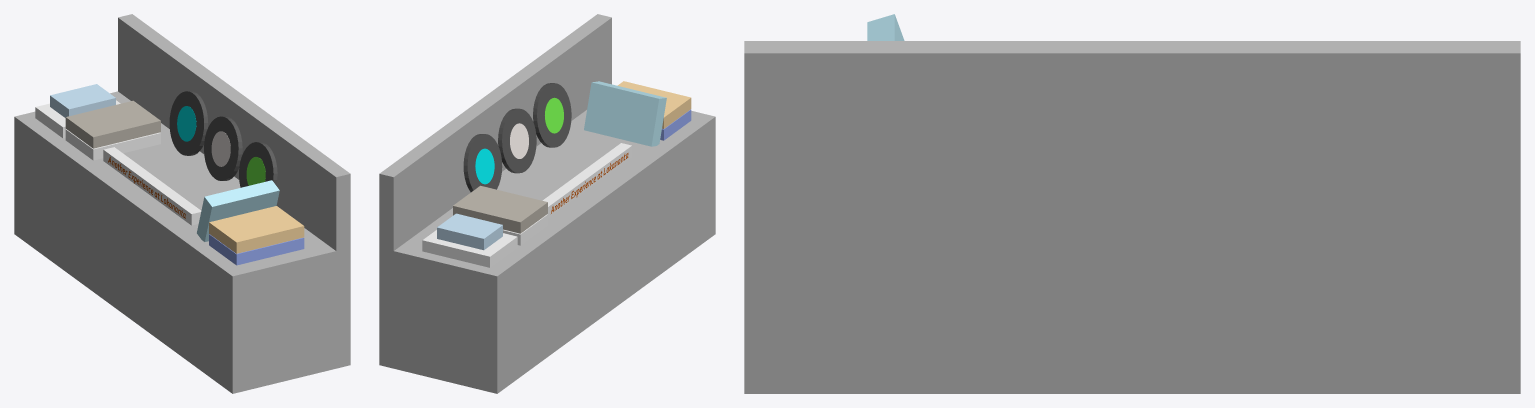
The model's file is meja AEL.fbx.
3 views of the same model, side by side, from view 1: azimuth 30°, elevation 25°; view 2: azimuth 150°, elevation 25°; view 3: azimuth 270°, elevation 25° (orthographic). The views are drawn at different scales.
Visible parts, largest first — view 1: Cube.061, Cube.006, Cube.003, Cube.007, Cube.037, Cylinder.040, Cylinder.002, Cube.005, Cube.004, Cube.002, Cylinder.003, Cube.001 (+4 smaller); view 2: Cube.061, Cube.007, Cube.006, Cube.037, Cube.001, Cube.005, Cylinder.003, Cylinder.040, Cylinder.002, Cube.003, Cylinder.001, Cylinder.041 (+4 smaller); view 3: Cube.061, Cube.007.
Part boxes in pixels (x1=…): Cube.061: x1=14, y1=14, x2=350, y2=393; Cube.006: x1=65, y1=100, x2=160, y2=148; Cube.003: x1=209, y1=206, x2=304, y2=253; Cube.007: x1=197, y1=180, x2=279, y2=241; Cube.037: x1=103, y1=147, x2=201, y2=225; Cylinder.040: x1=204, y1=116, x2=242, y2=180; Cylinder.002: x1=169, y1=91, x2=207, y2=155; Cube.005: x1=50, y1=84, x2=115, y2=117; Cube.004: x1=209, y1=234, x2=304, y2=265; Cube.002: x1=65, y1=129, x2=160, y2=160; Cylinder.003: x1=239, y1=142, x2=277, y2=187; Cube.001: x1=35, y1=100, x2=120, y2=138; Cube.061: x1=379, y1=14, x2=715, y2=393; Cube.007: x1=584, y1=81, x2=666, y2=146; Cube.006: x1=453, y1=185, x2=547, y2=233; Cube.037: x1=542, y1=143, x2=631, y2=218; Cube.001: x1=422, y1=230, x2=517, y2=267; Cube.005: x1=437, y1=213, x2=502, y2=250; Cylinder.003: x1=533, y1=83, x2=571, y2=147; Cylinder.040: x1=498, y1=108, x2=536, y2=173; Cylinder.002: x1=463, y1=134, x2=502, y2=192; Cube.003: x1=617, y1=81, x2=691, y2=128; Cylinder.001: x1=475, y1=148, x2=494, y2=184; Cylinder.041: x1=510, y1=123, x2=528, y2=158; Cube.061: x1=744, y1=41, x2=1520, y2=393; Cube.007: x1=867, y1=14, x2=904, y2=40.
Bounding box in the file's own units: 401 × 622 × 1285.
